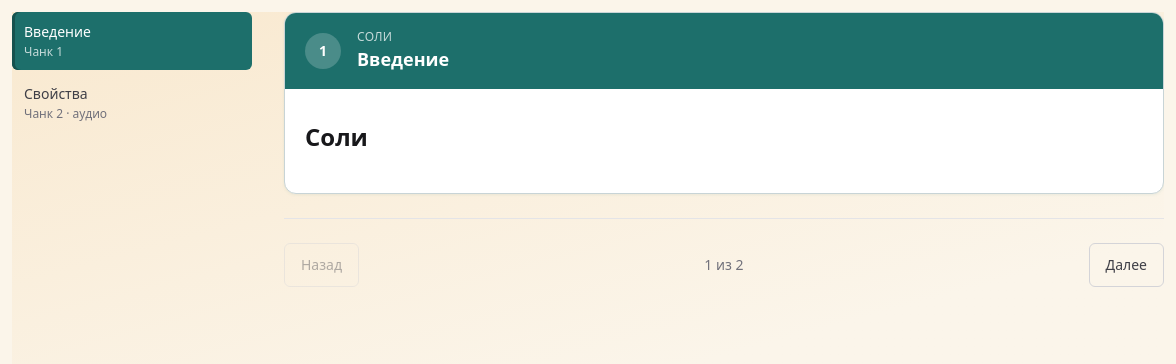
Scenario: ChunkViewer › loads another chunk when a sidebar item is clicked
Check: the heading "Введение" is shown, box [357,45,449,73]
Click the button "Свойства Чанк 2 · аудио".
click(132, 103)  # box [12,74,252,132]
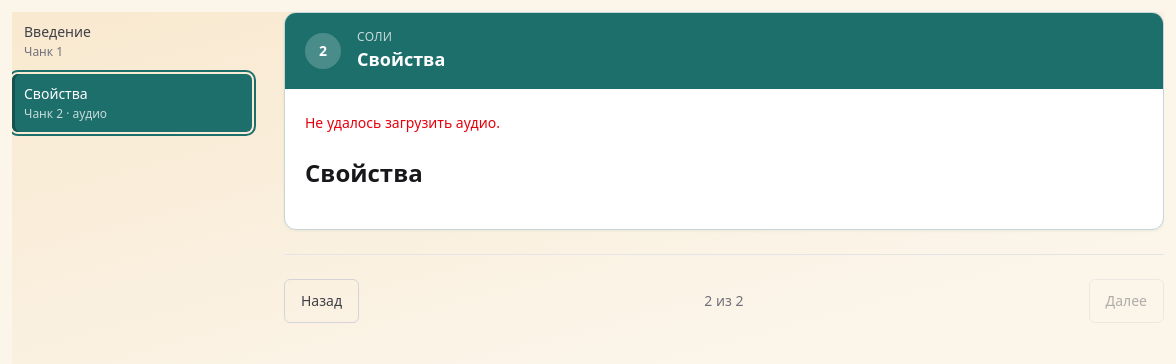
Check: the heading "Свойства" below "Соли" is shown, box [357,45,445,73]
